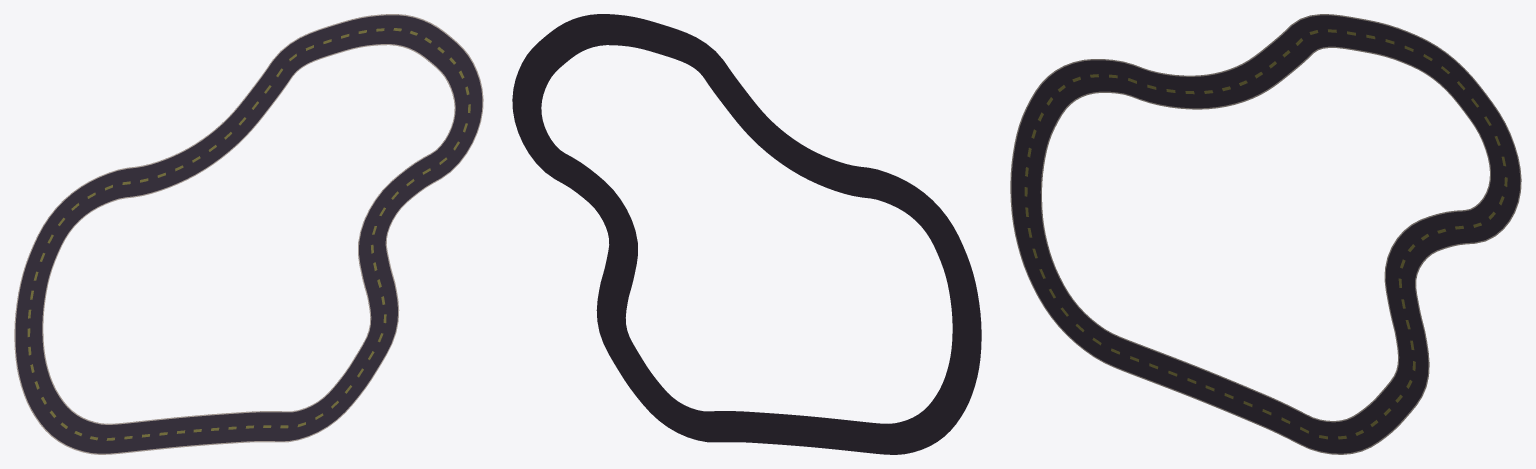
The model's file is track.obj.
3 views of the same model, side by side, from view 1: azimuth 30°, elevation 25°; view 2: azimuth 150°, elevation 25°; view 3: azimuth 330°, elevation 25° (orthographic). The views are drawn at different scales.
Size of the model in its own units: 17.26 by 14.35 by 0.002.
